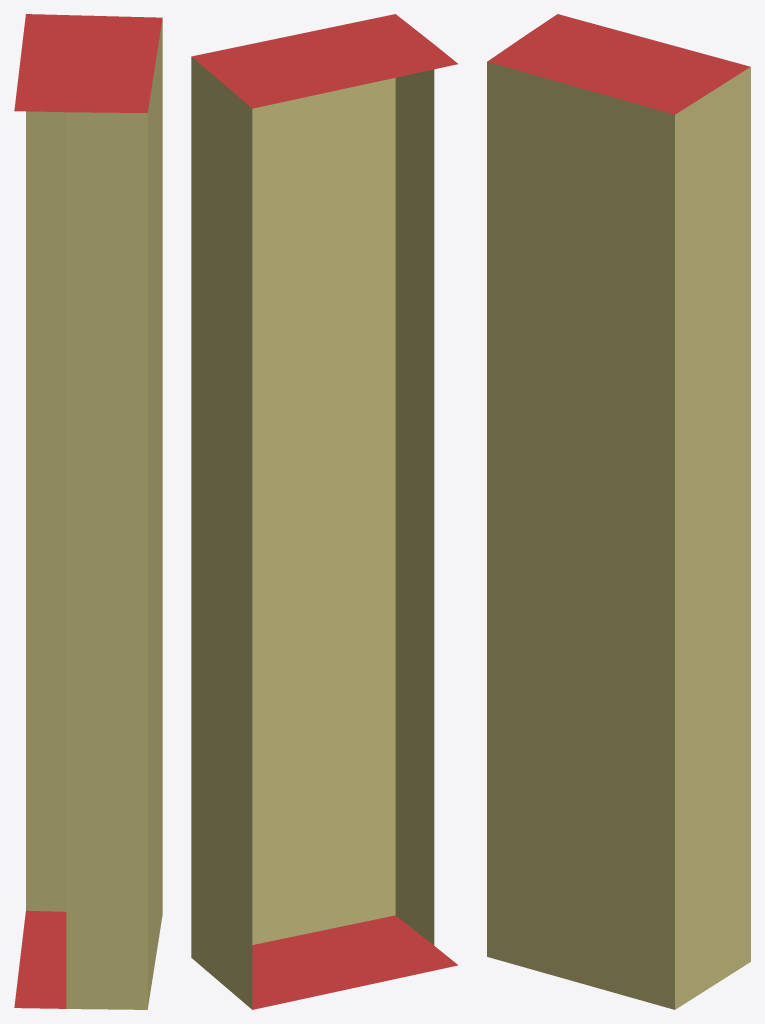
3 renders of one model, left to right at view 1: azimuth 30°, elevation 25°; view 2: azimuth 150°, elevation 25°; view 3: azimuth 270°, elevation 25°, orthographic.
Parts seen in each view (by area): view 1: group_4, group_3, group_5; view 2: group_4, group_3, group_5; view 3: group_4, group_3.
Boxes of the visible parts, x1=… form: group_4: x1=26, y1=19, x2=162, y2=1009; group_3: x1=14, y1=14, x2=162, y2=113; group_5: x1=14, y1=910, x2=66, y2=1008; group_4: x1=191, y1=57, x2=434, y2=1009; group_3: x1=191, y1=14, x2=457, y2=108; group_5: x1=252, y1=915, x2=457, y2=1009; group_4: x1=487, y1=61, x2=750, y2=1009; group_3: x1=487, y1=14, x2=750, y2=114.
Bounding box in the file's own units: 3.99 × 4.41 × 16.52.
